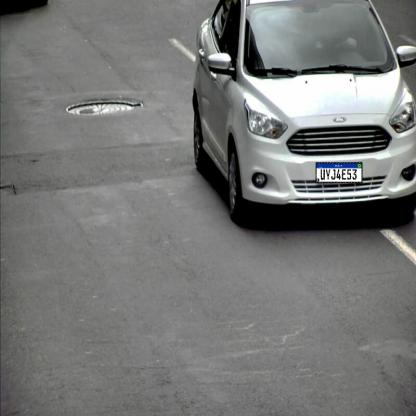PlacaM: (316, 162, 362, 183)
